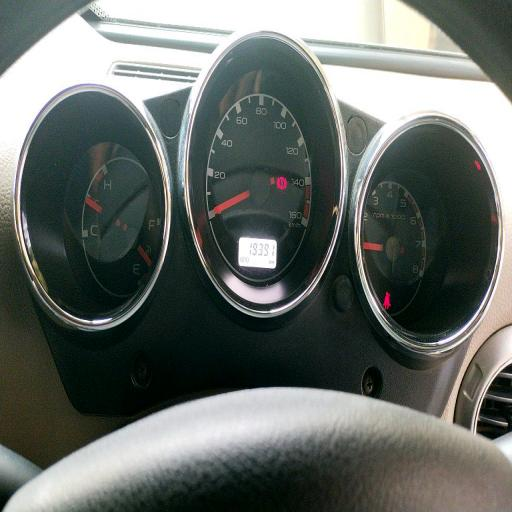belt: (383, 292, 391, 310)
brake_system_fault: (277, 176, 287, 190)
tachometer: (361, 180, 427, 310)
